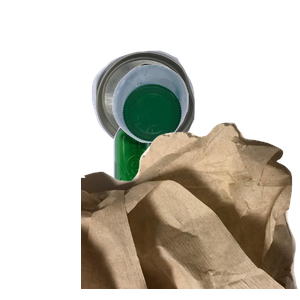glass: (107, 120, 278, 300)
metal: (89, 48, 276, 192)
plastic: (110, 62, 300, 198)
trash: (81, 120, 300, 300)
